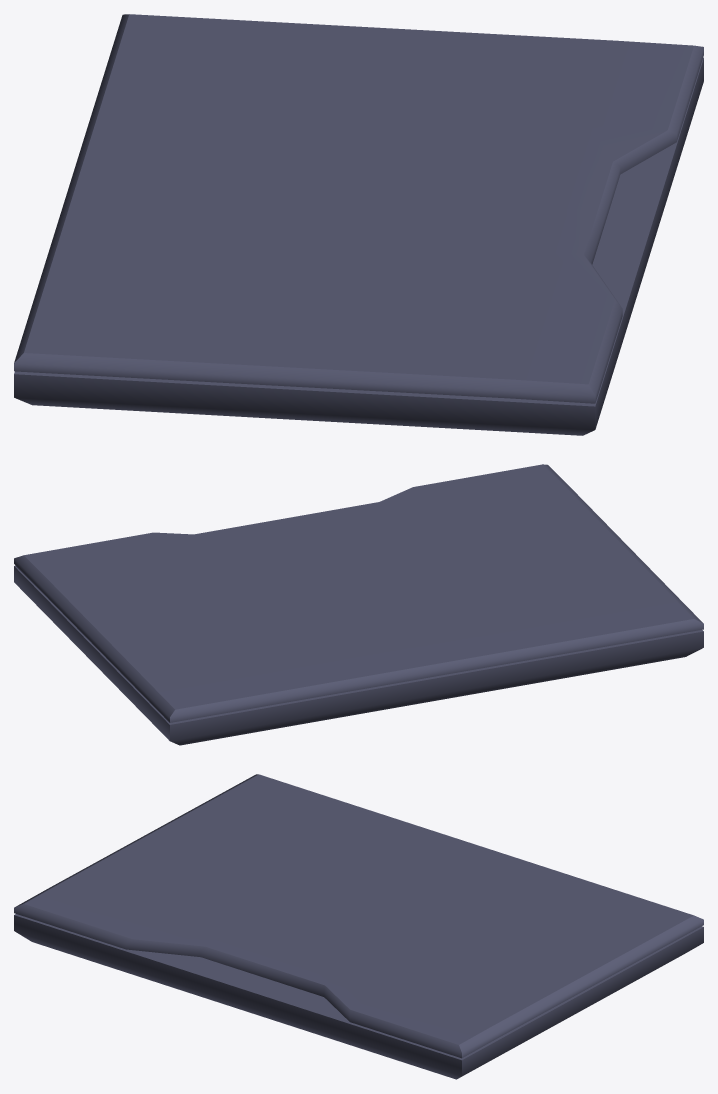
File: LaptopPC.fbx
The picture shows the model from 3 angles, top to bottom: view 1: azimuth 30°, elevation 25°; view 2: azimuth 150°, elevation 25°; view 3: azimuth 270°, elevation 25°; orthographic projection. The views are drawn at different scales.
Visible parts, largest first — view 1: pCube109, pCube108; view 2: pCube109, pCube108; view 3: pCube109, pCube108.
Part boxes in pixels (x1=…): pCube109: x1=14, y1=14, x2=703, y2=403; pCube108: x1=14, y1=57, x2=703, y2=435; pCube109: x1=14, y1=464, x2=703, y2=722; pCube108: x1=14, y1=502, x2=703, y2=745; pCube109: x1=14, y1=774, x2=703, y2=1058; pCube108: x1=14, y1=914, x2=703, y2=1079.
Size of the model in its own units: 68.28 by 4.39 by 71.47.
